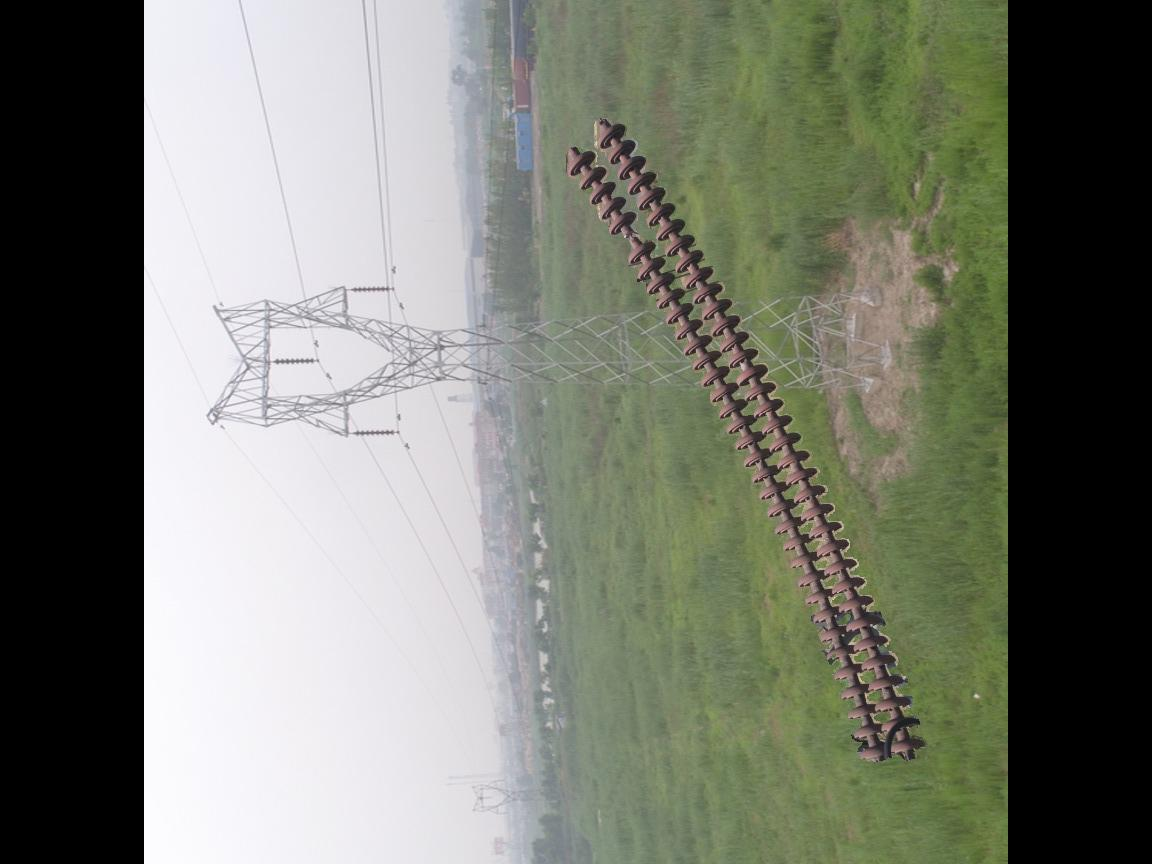insulator: (560, 115, 928, 768), (350, 426, 398, 441), (271, 354, 318, 369), (348, 283, 394, 298)
insulator_stringdrop: (606, 208, 657, 270)
